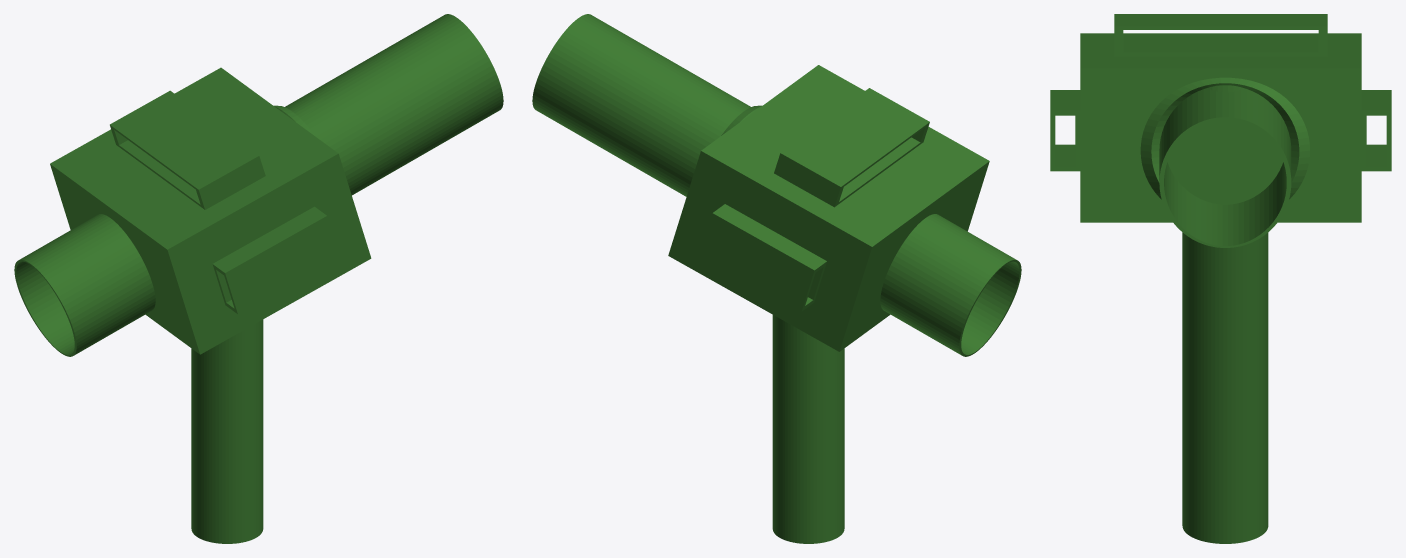
File: launche22222fbx.fbx
The picture shows the model from 3 angles, left to right: view 1: azimuth 30°, elevation 25°; view 2: azimuth 150°, elevation 25°; view 3: azimuth 270°, elevation 25°; orthographic projection. The views are drawn at different scales.
Visible parts, largest first — view 1: Cube.001, Cylinder.001; view 2: Cube.001, Cylinder.001; view 3: Cube.001, Cylinder.001.
Boxes of the visible parts, x1,y1,x2,y2 form: Cube.001: (14,14,503,356); Cylinder.001: (191,319,263,543); Cube.001: (532,14,1021,356); Cylinder.001: (772,315,844,543); Cube.001: (1050,14,1391,247); Cylinder.001: (1182,232,1268,543).
Bounding box in the file's own units: 1375 × 1310 × 746.
